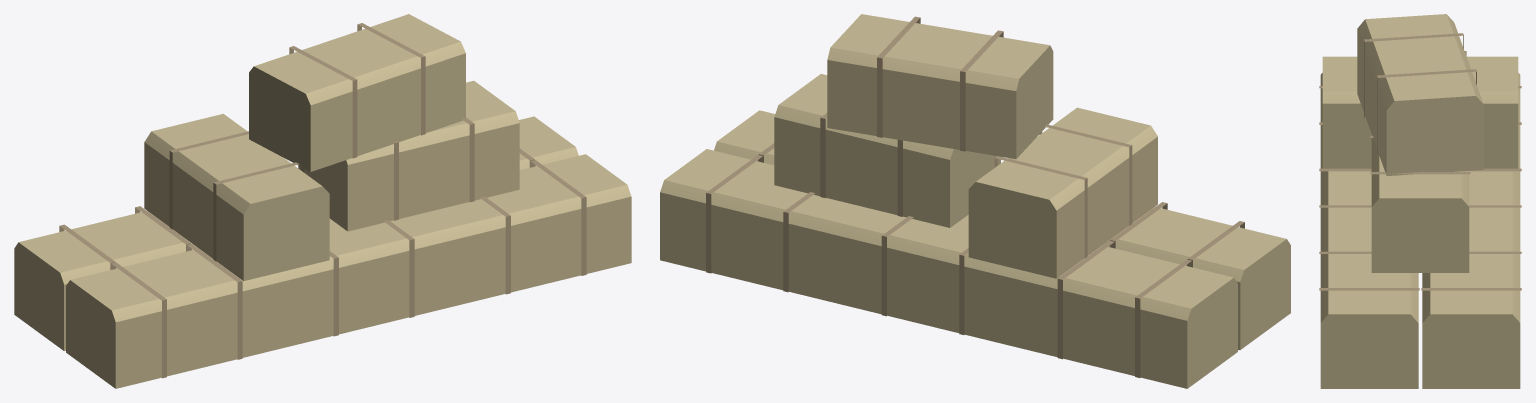
Rendered from SM_BM_BE_BaleStack.glb.
3 renders of one model, left to right at view 1: azimuth 30°, elevation 25°; view 2: azimuth 150°, elevation 25°; view 3: azimuth 270°, elevation 25°, orthographic. The views are drawn at different scales.
Parts seen in each view (by area): view 1: SM_BM_BE_BaleStack; view 2: SM_BM_BE_BaleStack; view 3: SM_BM_BE_BaleStack.
Boxes of the visible parts, <box> form: SM_BM_BE_BaleStack: <box>14,14,631,388</box>; SM_BM_BE_BaleStack: <box>660,14,1290,388</box>; SM_BM_BE_BaleStack: <box>1319,14,1521,388</box>.
Size of the model in its own units: 3 by 1.27 by 1.03.
